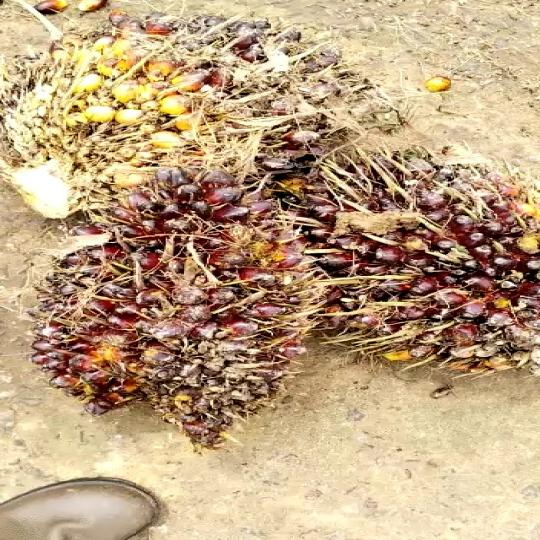kurang masak: (31, 163, 332, 465), (1, 31, 393, 225), (287, 144, 540, 404)
